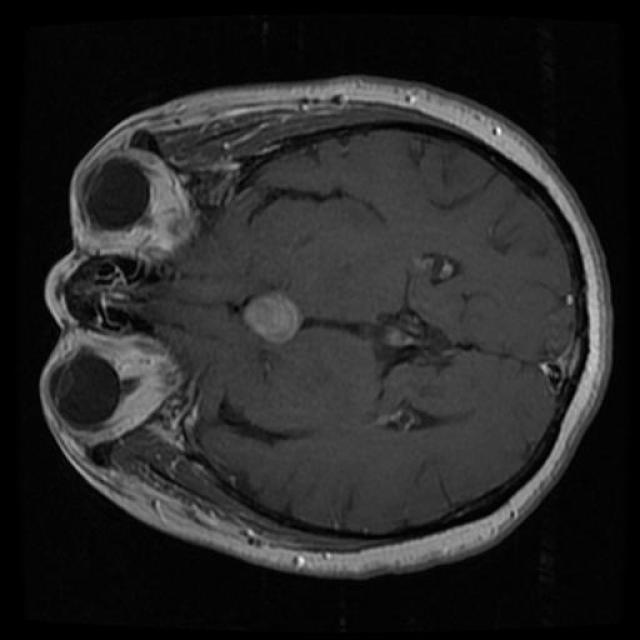Pituitary: (241, 291, 303, 344)
